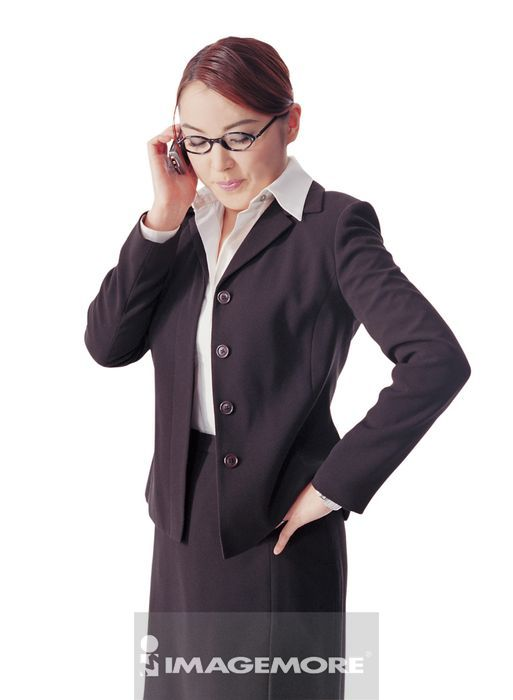talk: (147, 108, 264, 221)
